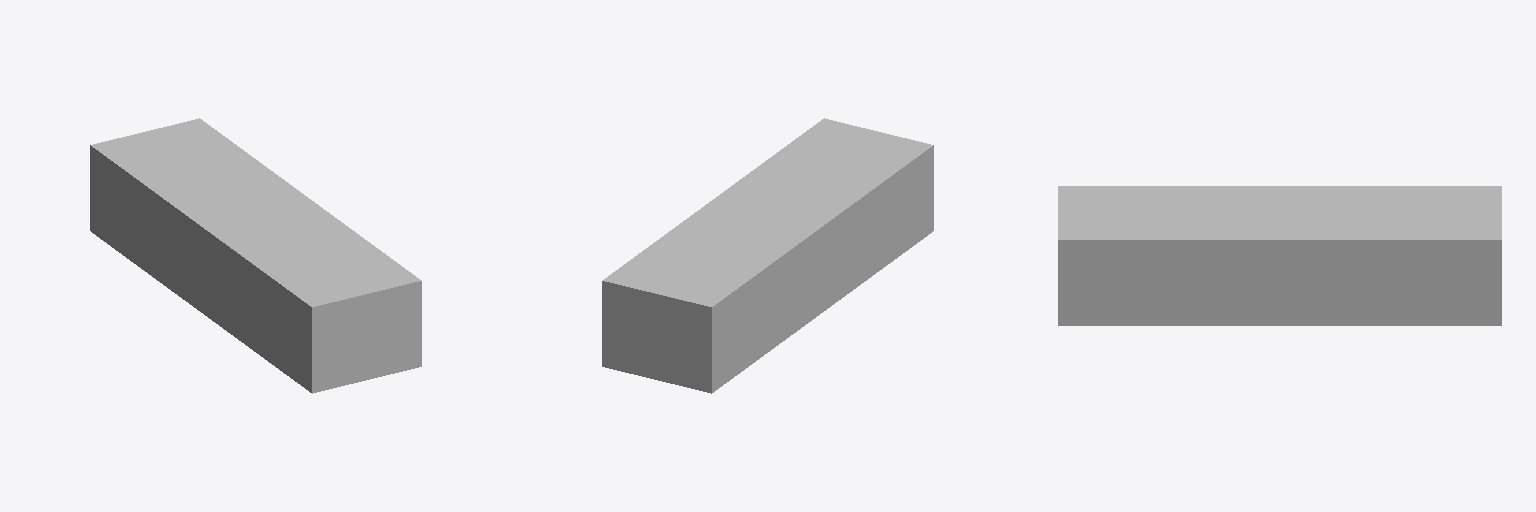
Rendered from log.obj.
3 views of the same model, side by side, from view 1: azimuth 30°, elevation 25°; view 2: azimuth 150°, elevation 25°; view 3: azimuth 270°, elevation 25° (orthographic).
Visible parts, largest first — view 1: object 1; view 2: object 1; view 3: object 1.
Part boxes in pixels (x1,y1,x2,y2): object 1: (90, 118, 421, 393); object 1: (602, 118, 933, 393); object 1: (1058, 186, 1501, 325).
Bounding box in the file's own units: 0.4 × 0.3 × 1.4.